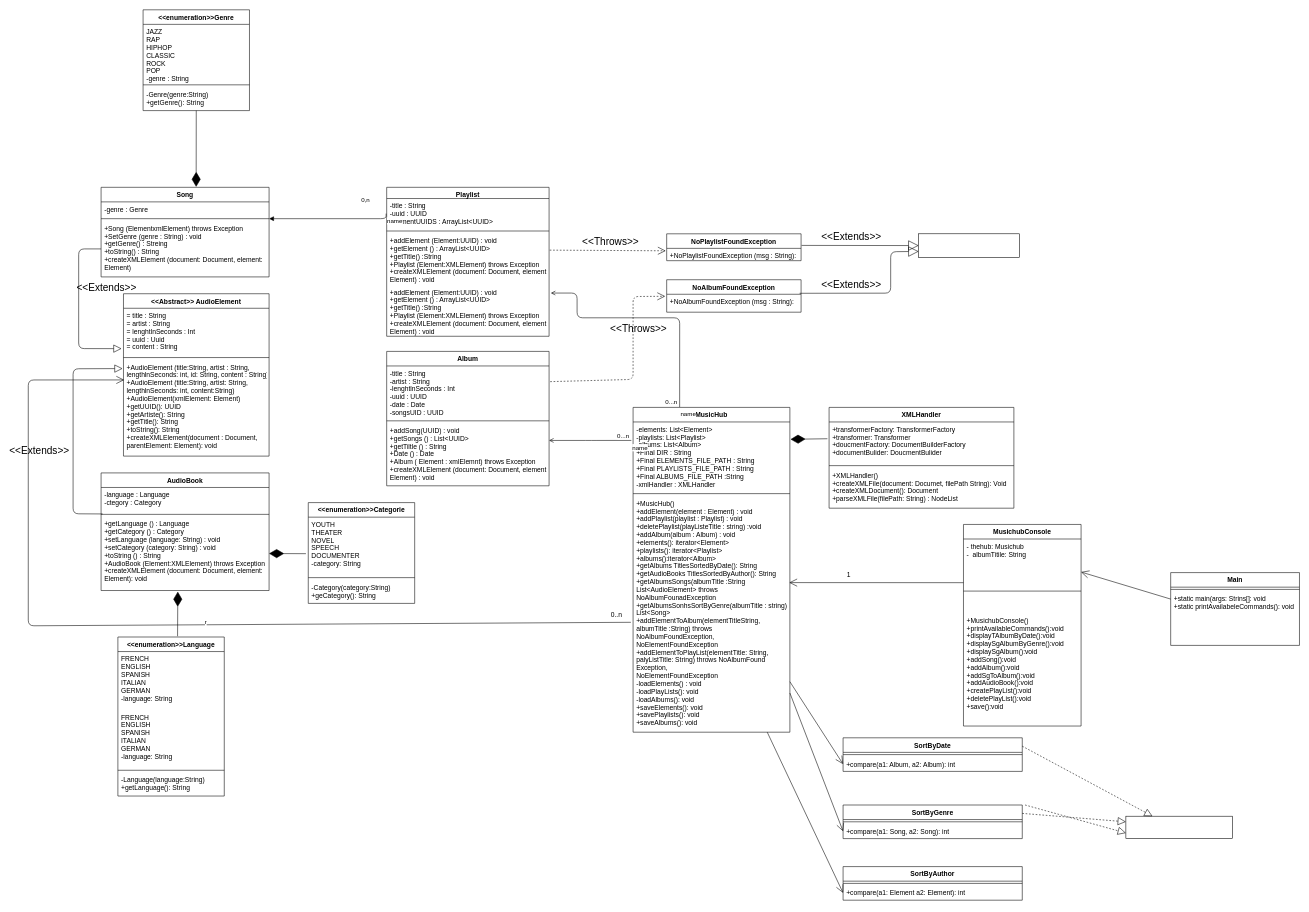
Image size: 1309x912. Some labels were removed from this diagram. Here are the shapes that lost their labels. From the top down, the centre of each, then its label:
At (968,245): "java.lang.Exception".
At (1178,827): "java.util.comparator".
